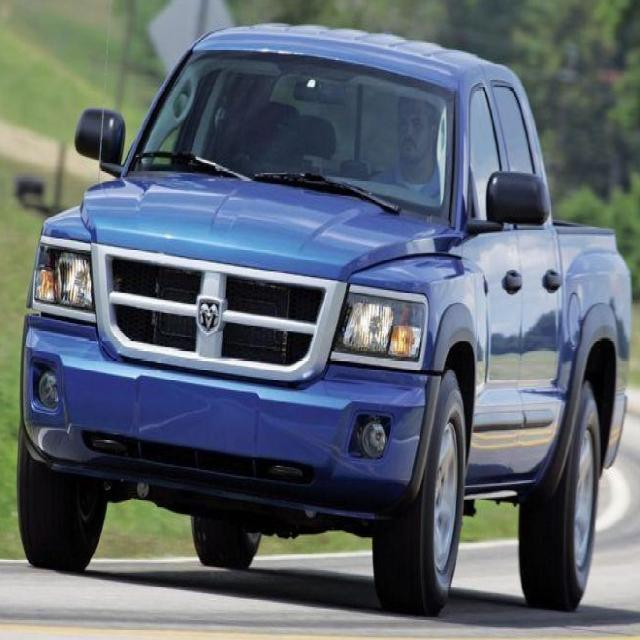CMT: (19, 29, 628, 623)
